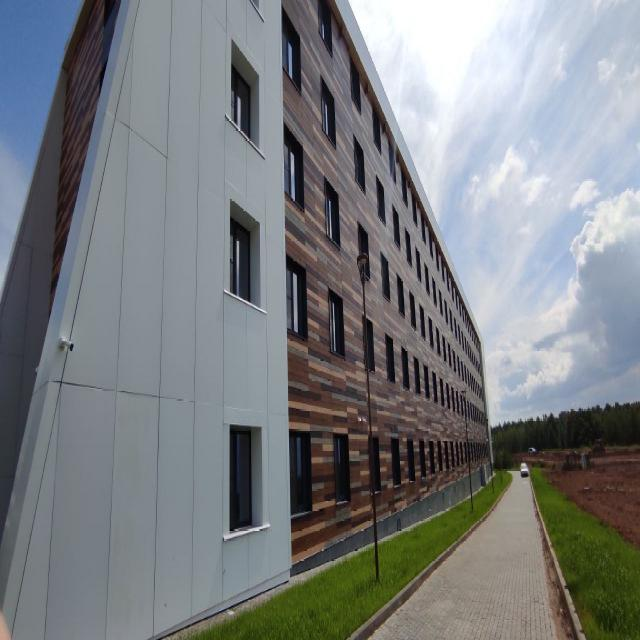Building: (0, 0, 494, 640)
